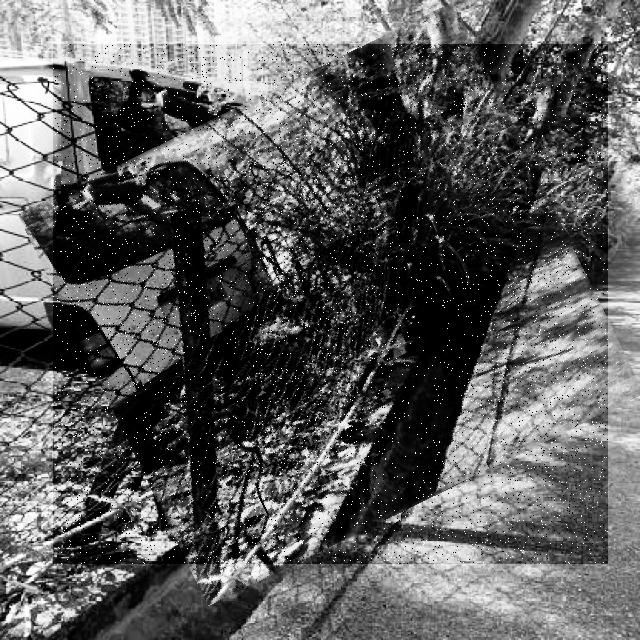anomaly-fence: (53, 44, 608, 564)
